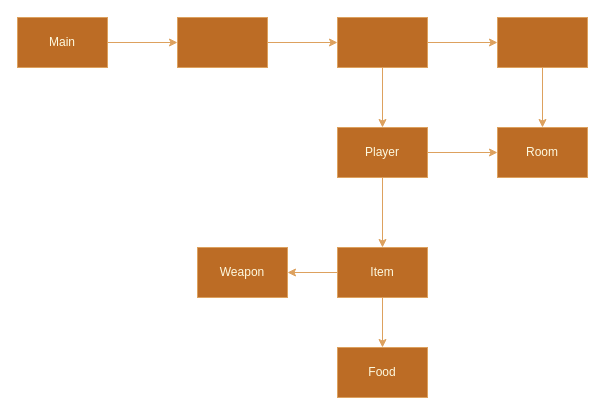
This 605x415 diagram has some shape labels left out. The shapes that lost their labels are listed below. From the top down, each one's box as (x1, y1, x2, y2) in pixels, then its label:
(176, 16, 268, 68): UserInterFace
(336, 16, 428, 68): Adventure
(496, 16, 588, 68): Map
